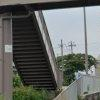stairs: (12, 13, 57, 99)
